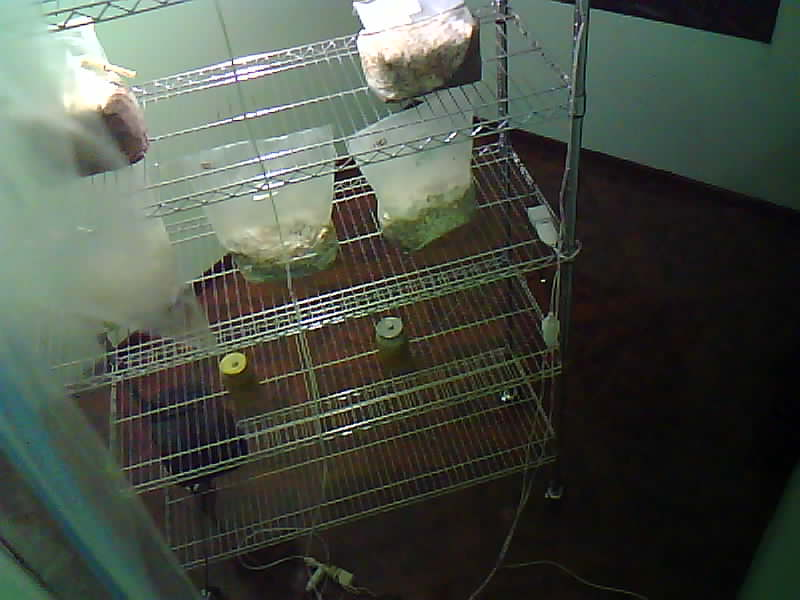bloco: (348, 100, 496, 251), (10, 21, 166, 160), (194, 128, 330, 287), (327, 7, 491, 96)
